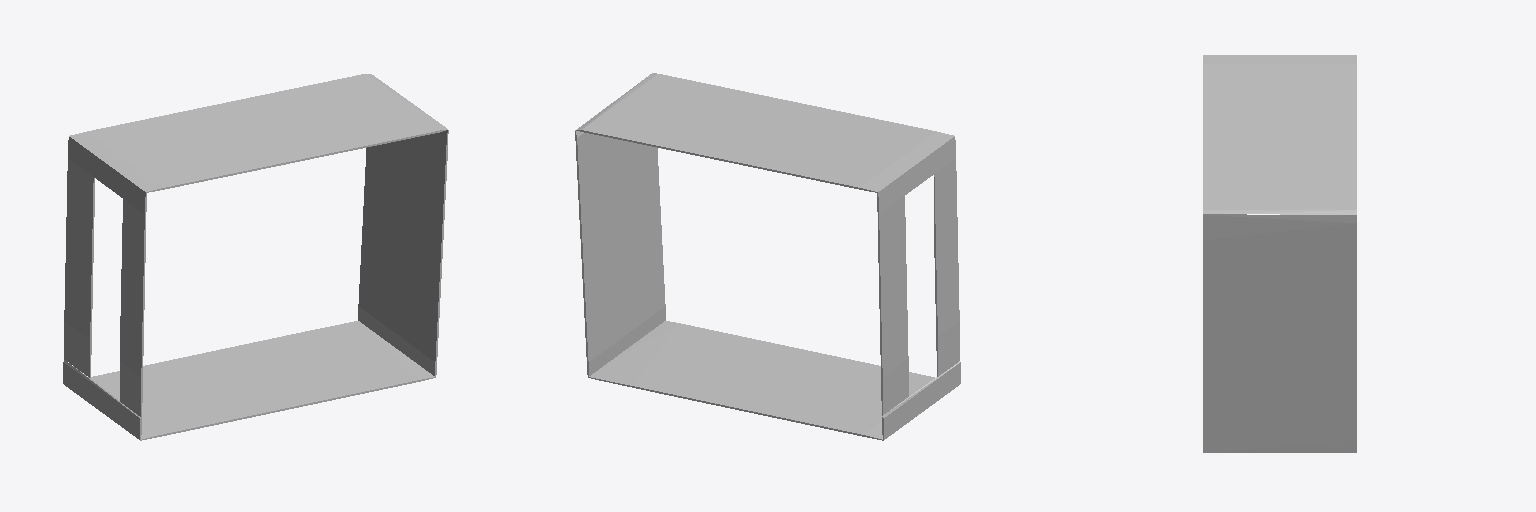
Rendered from scene0420_01_wall_vhacd.obj.
3 views of the same model, side by side, from view 1: azimuth 30°, elevation 25°; view 2: azimuth 150°, elevation 25°; view 3: azimuth 270°, elevation 25° (orthographic).
Parts seen in each view (by area): view 1: convex_0, convex_1, convex_5, convex_4, convex_3, convex_6, convex_2; view 2: convex_0, convex_1, convex_5, convex_4, convex_3, convex_6, convex_2; view 3: convex_5, convex_0.
Boxes of the visible parts, x1,y1,x2,y2 form: convex_0: [70, 74, 447, 192]; convex_1: [64, 321, 434, 440]; convex_5: [358, 130, 448, 377]; convex_4: [64, 159, 94, 377]; convex_3: [120, 199, 145, 417]; convex_6: [63, 360, 141, 439]; convex_2: [68, 136, 146, 213]; convex_0: [576, 73, 953, 192]; convex_1: [589, 321, 959, 440]; convex_5: [575, 130, 665, 377]; convex_4: [878, 196, 908, 415]; convex_3: [934, 159, 959, 376]; convex_6: [882, 361, 960, 439]; convex_2: [877, 136, 955, 213]; convex_5: [1203, 215, 1356, 452]; convex_0: [1203, 56, 1356, 214].
Bounding box in the file's own units: 6.97 × 5.54 × 3.02.